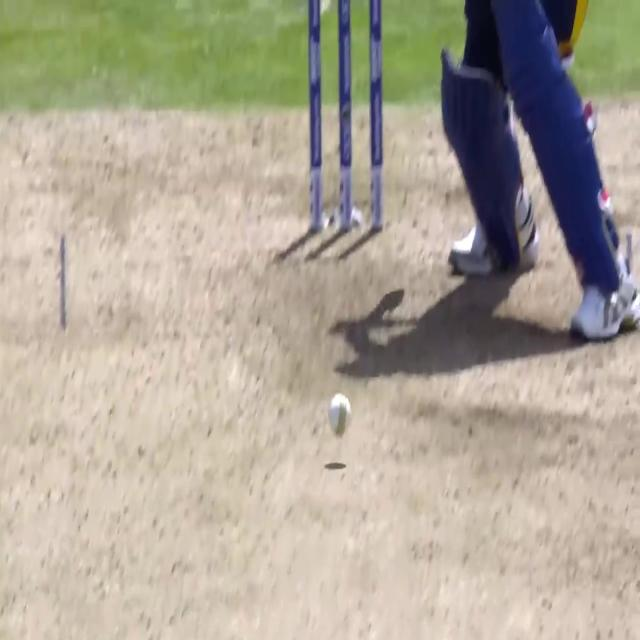ball: (328, 391, 352, 437)
